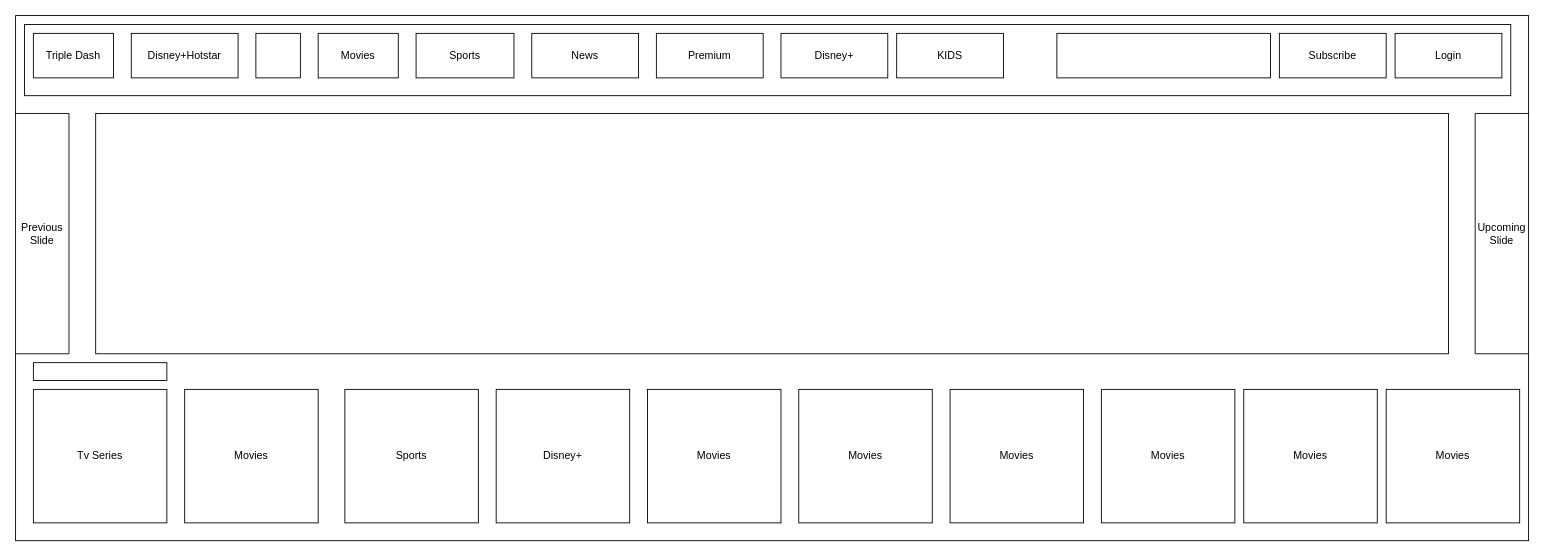
Image size: 1544x556. Some labels were removed from this diagram. The shapes that lost their labels are listed below. From the top down, each one's centre as x and y in pixels, then its label:
At [277,55]: "TV".
At [1163,55]: "Search Bar".
At [771,233]: "Present Slide Screen".
At [99,371]: "Continue Watching".
